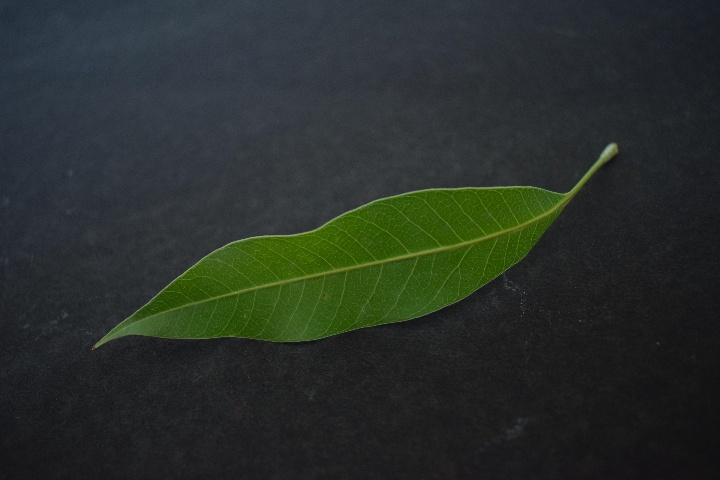healthy: (98, 186, 592, 351)
